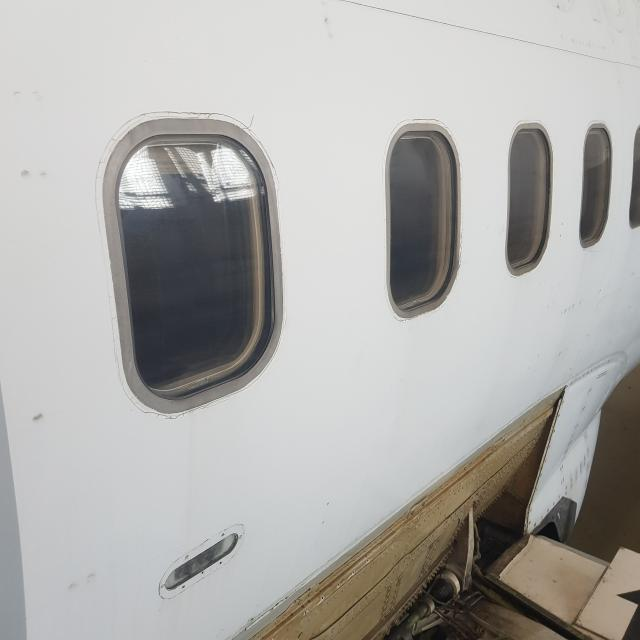crack: (242, 112, 262, 133)
